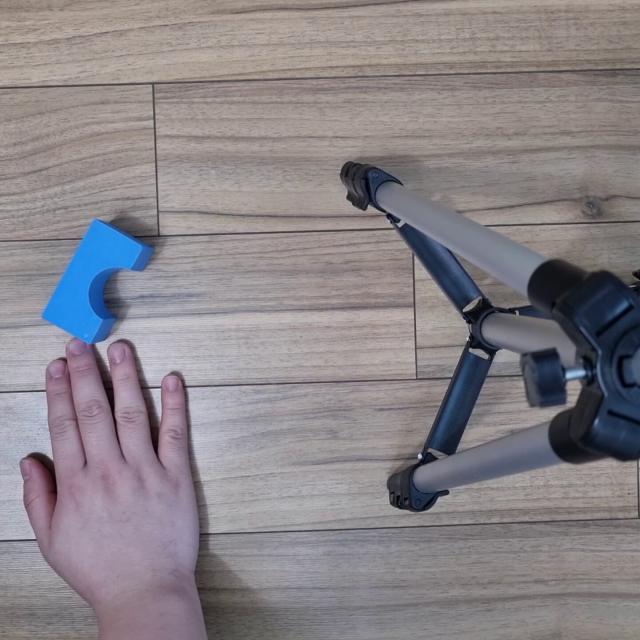block: (39, 212, 159, 348)
hand: (12, 332, 231, 590)
